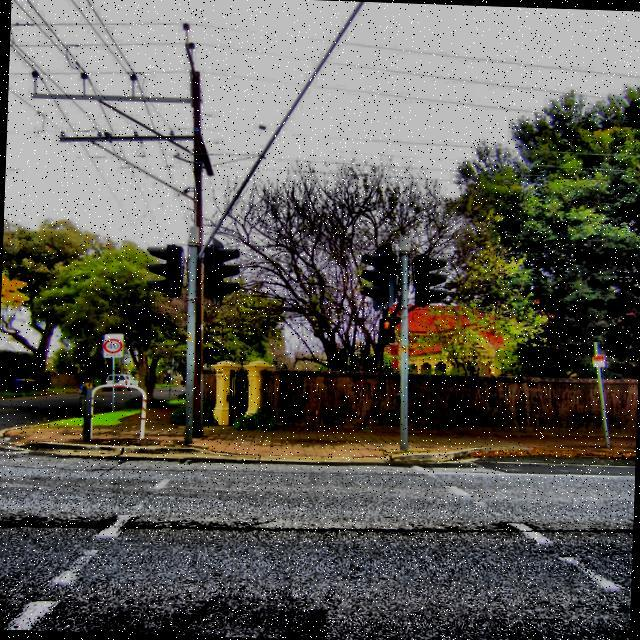red_light: (382, 319, 390, 329)
